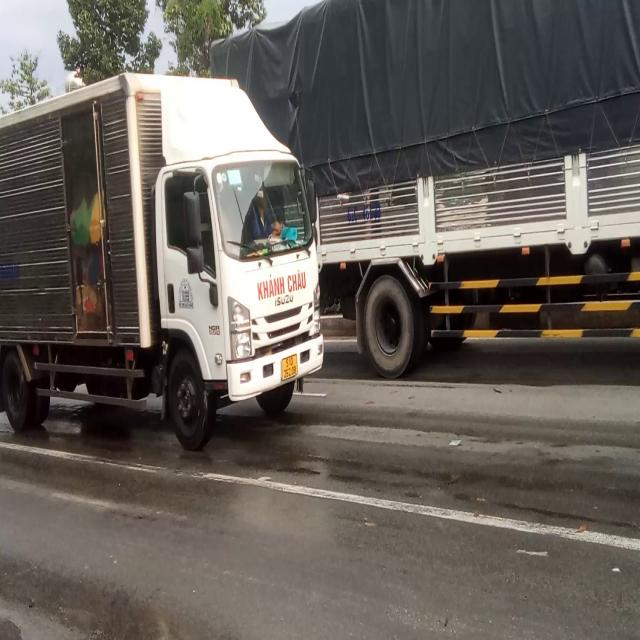bien_vang: (281, 351, 298, 381)
